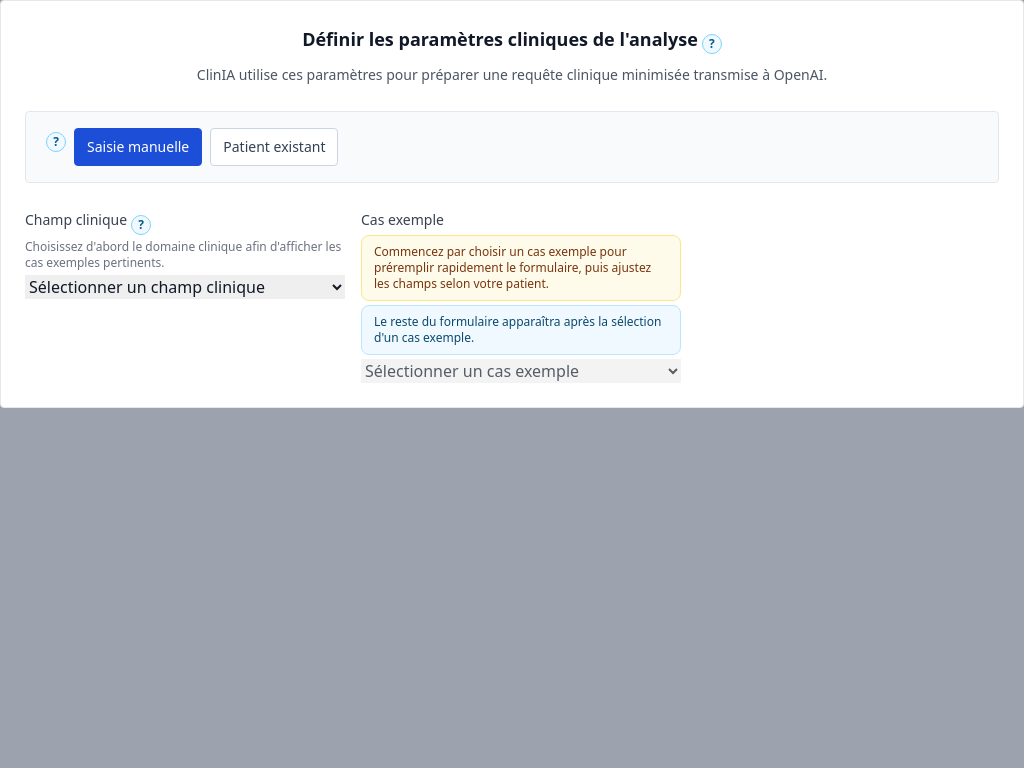
ClinicalForm › keeps the hypertension example medical terms in English for fr-CA
Step 1. Select "Médecine générale" in the dropdown with id "clinical-field" → (185, 287), box [25,275,345,299]
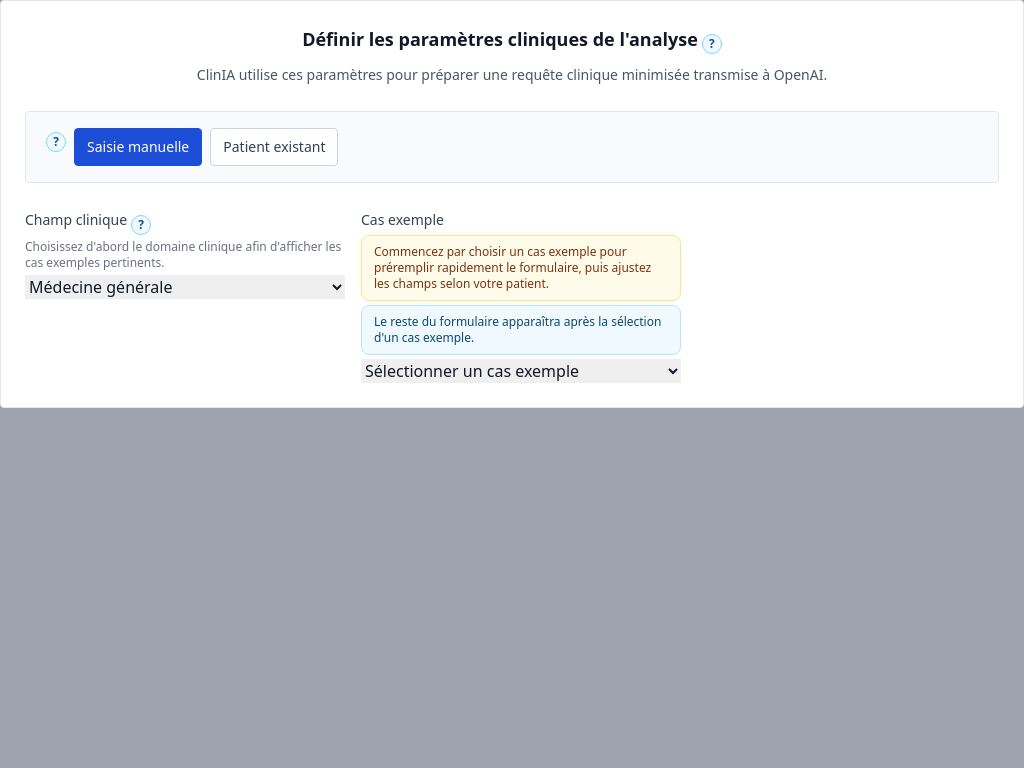
Step 2. Select "Hypertension" in the dropdown with id "clinical-example-case" → (521, 371), box [361,359,681,383]
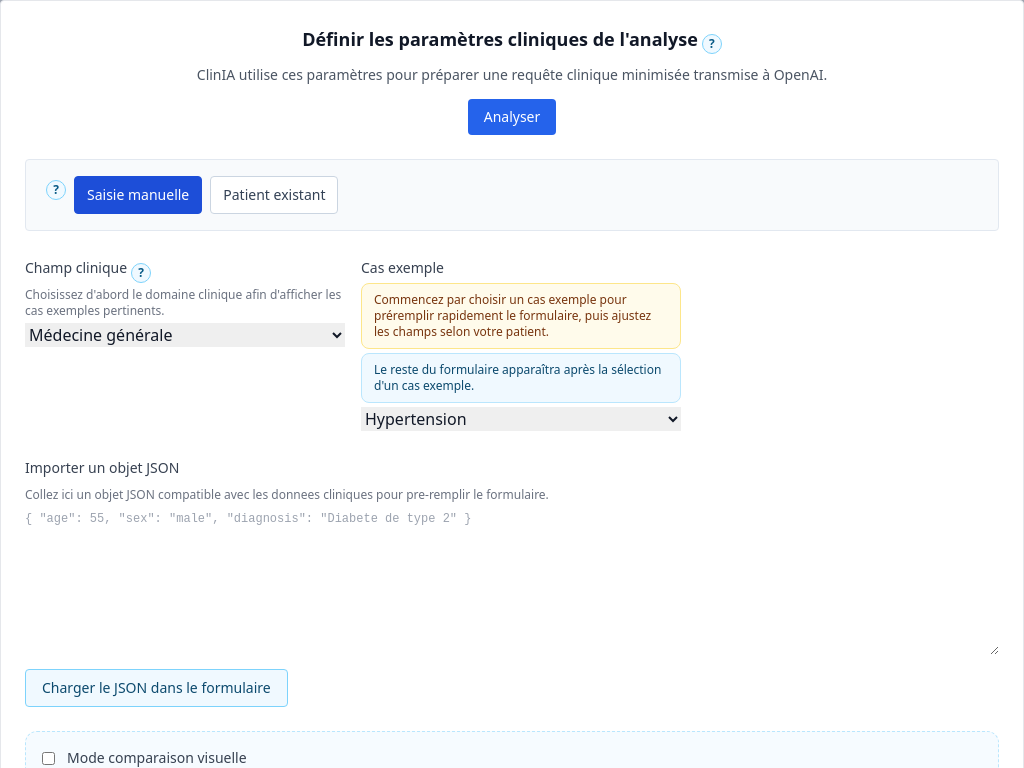
Now the button "Analyser" is shown, box [468,99,556,135]
